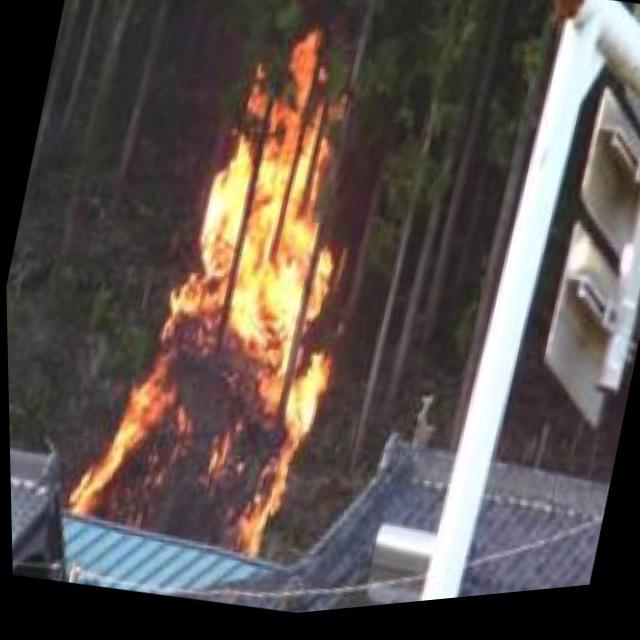fire: (66, 7, 396, 586)
